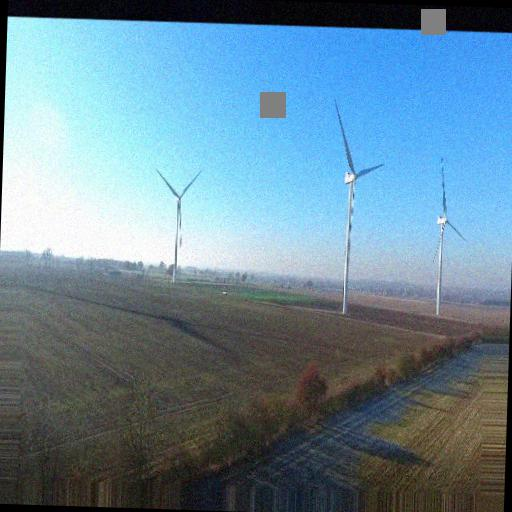wind turbine: (332, 98, 386, 316), (425, 158, 467, 318), (151, 167, 202, 279)
